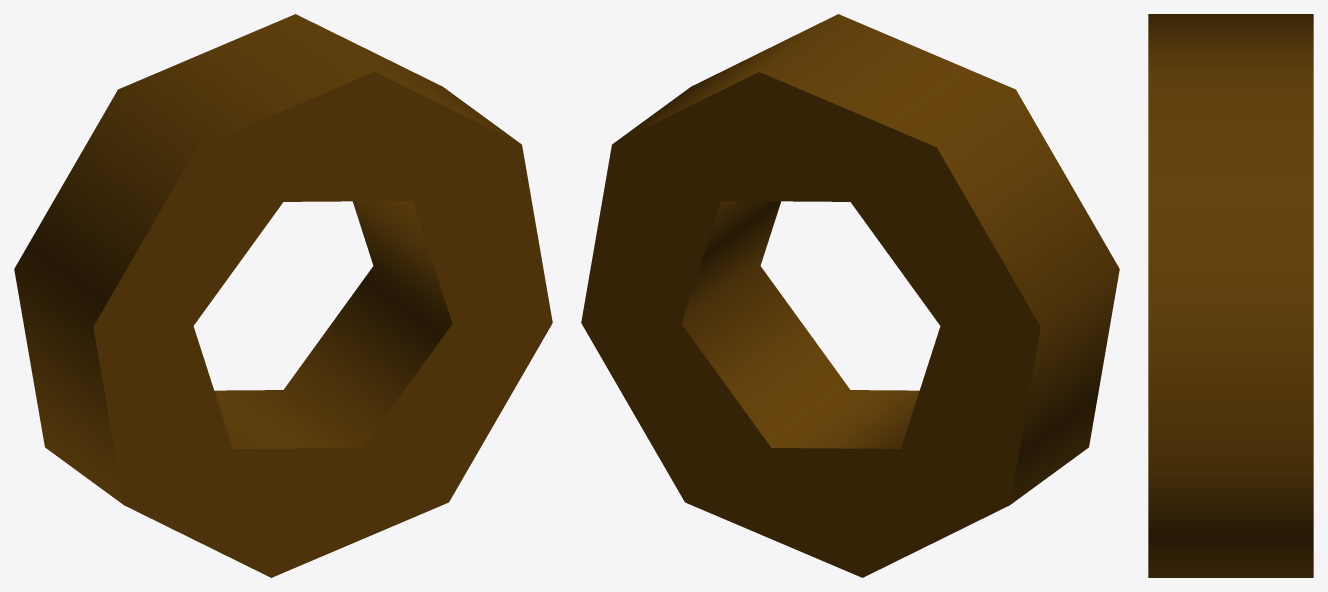
The model's file is Pallier Premiere de sonnerie.obj.
The picture shows the model from 3 angles, left to right: view 1: azimuth 30°, elevation 25°; view 2: azimuth 150°, elevation 25°; view 3: azimuth 270°, elevation 25°; orthographic projection. The views are drawn at different scales.
Parts seen in each view (by area): view 1: Face_2, Face_3, Face_4; view 2: Face_1, Face_3, Face_4; view 3: Face_3.
Boxes of the visible parts, x1,y1,x2,y2 form: Face_2: (93,72,552,577); Face_3: (14,14,521,504); Face_4: (214,201,452,448); Face_1: (581,72,1040,577); Face_3: (612,14,1119,504); Face_4: (681,201,919,448); Face_3: (1148,14,1313,577).
Size of the model in its own units: 0.0107 by 0.0107 by 0.0032.
